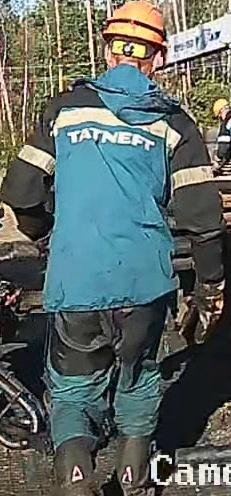gloves: (183, 276, 231, 347)
helmet: (101, 0, 169, 49)
vest: (39, 87, 181, 313)
